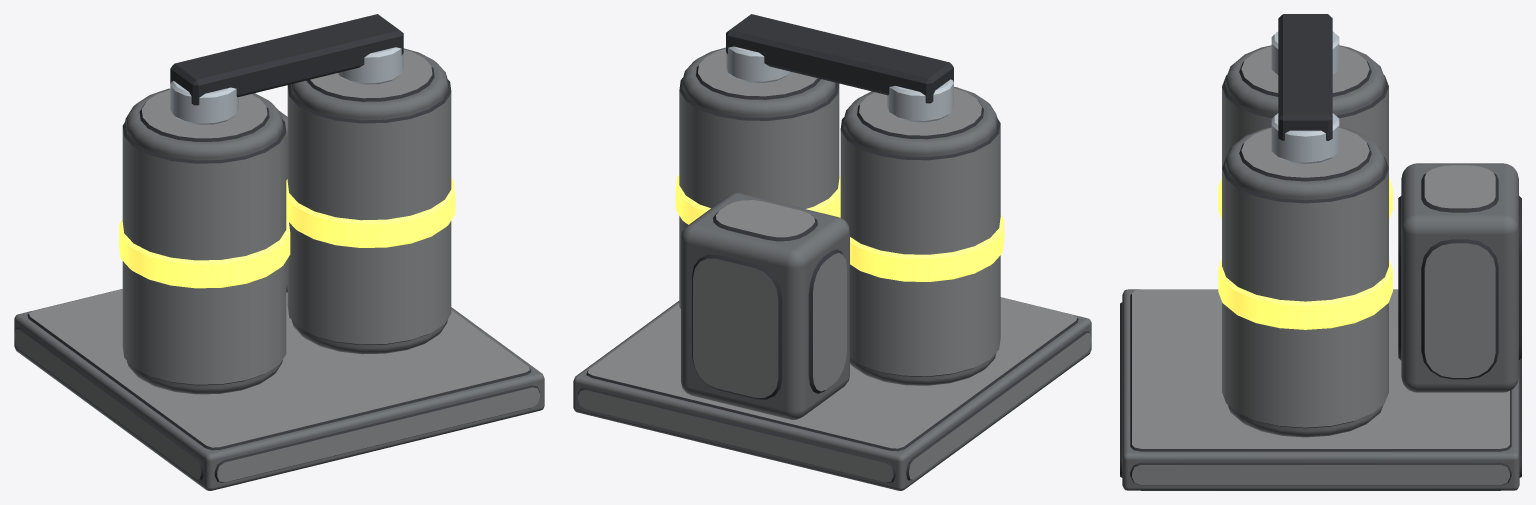
File: R4X_Battery.glb
The picture shows the model from 3 angles, left to right: view 1: azimuth 30°, elevation 25°; view 2: azimuth 150°, elevation 25°; view 3: azimuth 270°, elevation 25°; orthographic projection. The views are drawn at different scales.
Visible parts, largest first — view 1: R4X_Battery_Body; view 2: R4X_Battery_Body; view 3: R4X_Battery_Body.
Boxes of the visible parts, box(x1,y1,x2,y2) form: R4X_Battery_Body: box(14, 14, 544, 490); R4X_Battery_Body: box(573, 14, 1091, 490); R4X_Battery_Body: box(1120, 14, 1521, 490).
Bounding box in the file's own units: 0.52 × 0.495 × 0.52.
